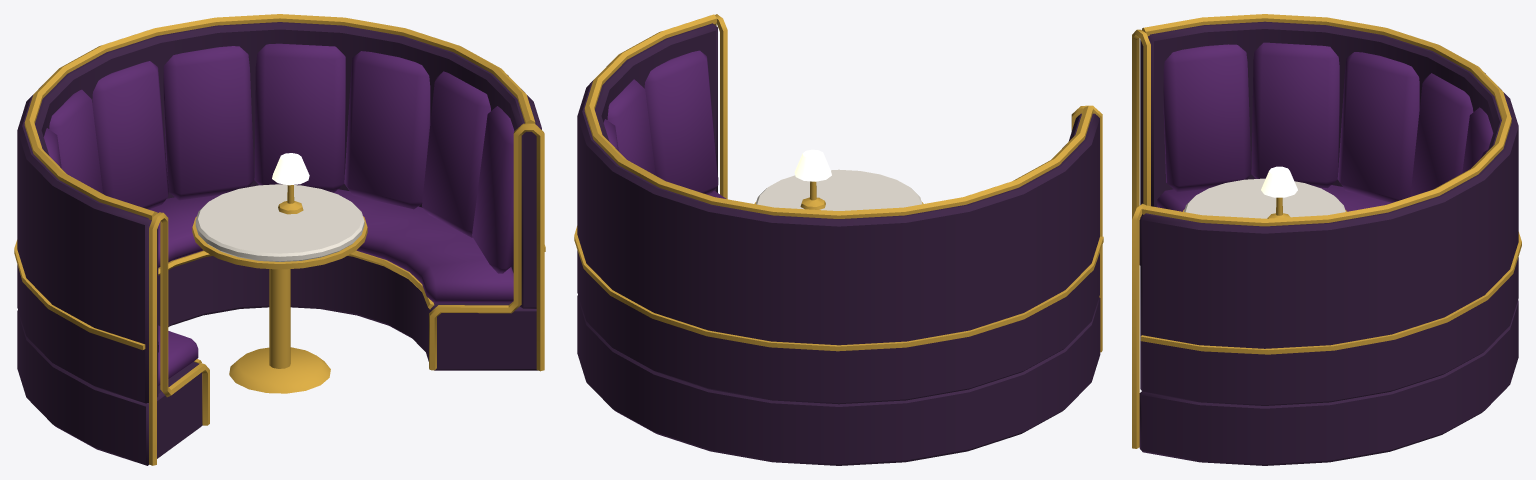
The model's file is Lobby_VIPBooth.fbx.
The picture shows the model from 3 angles, left to right: view 1: azimuth 30°, elevation 25°; view 2: azimuth 150°, elevation 25°; view 3: azimuth 270°, elevation 25°; orthographic projection. The views are drawn at different scales.
Visible parts, largest first — view 1: Velvet, Shell, Gold, TableTop, Shade; view 2: Shell, Gold, Velvet, TableTop, Shade; view 3: Shell, Velvet, Gold, TableTop, Shade.
Boxes of the visible parts, x1=… form: Velvet: x1=43, y1=43, x2=514, y2=385; Shell: x1=17, y1=22, x2=541, y2=465; Gold: x1=14, y1=14, x2=545, y2=465; TableTop: x1=195, y1=184, x2=364, y2=261; Shade: x1=272, y1=153, x2=309, y2=185; Shell: x1=577, y1=23, x2=1100, y2=465; Gold: x1=574, y1=14, x2=1103, y2=352; Velvet: x1=603, y1=50, x2=725, y2=198; TableTop: x1=755, y1=169, x2=922, y2=210; Shade: x1=794, y1=149, x2=831, y2=181; Shell: x1=1139, y1=21, x2=1518, y2=465; Velvet: x1=1157, y1=42, x2=1493, y2=211; Gold: x1=1132, y1=14, x2=1521, y2=448; TableTop: x1=1184, y1=178, x2=1345, y2=218; Shade: x1=1261, y1=166, x2=1297, y2=197.
Bounding box in the file's own units: 880 × 461 × 668.
